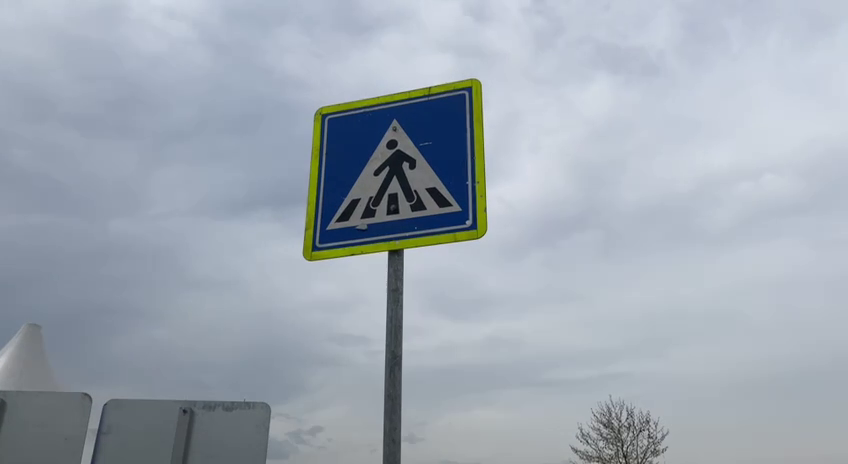pedestrianCrossing: (300, 76, 487, 262)
